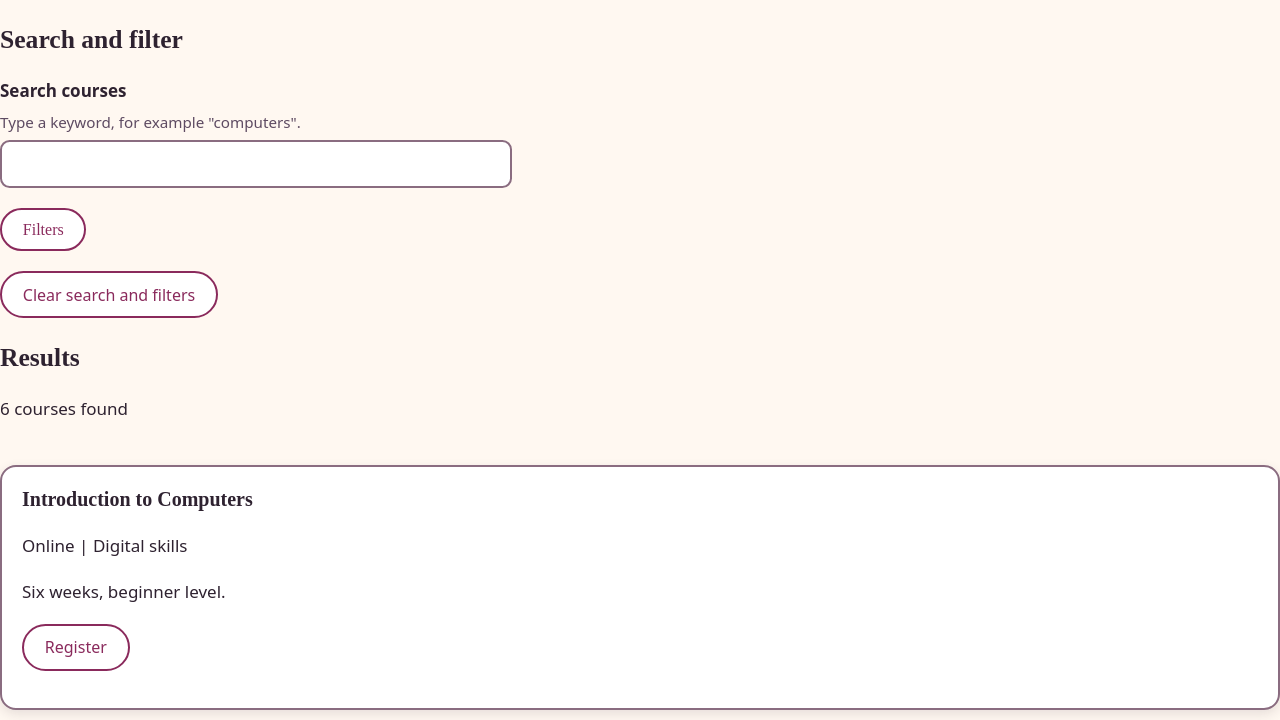
Test: CourseDirectory › toggles aria-pressed and filters the results
Click the button "Filters". click: (43, 230)
box: [0,208,86,251]
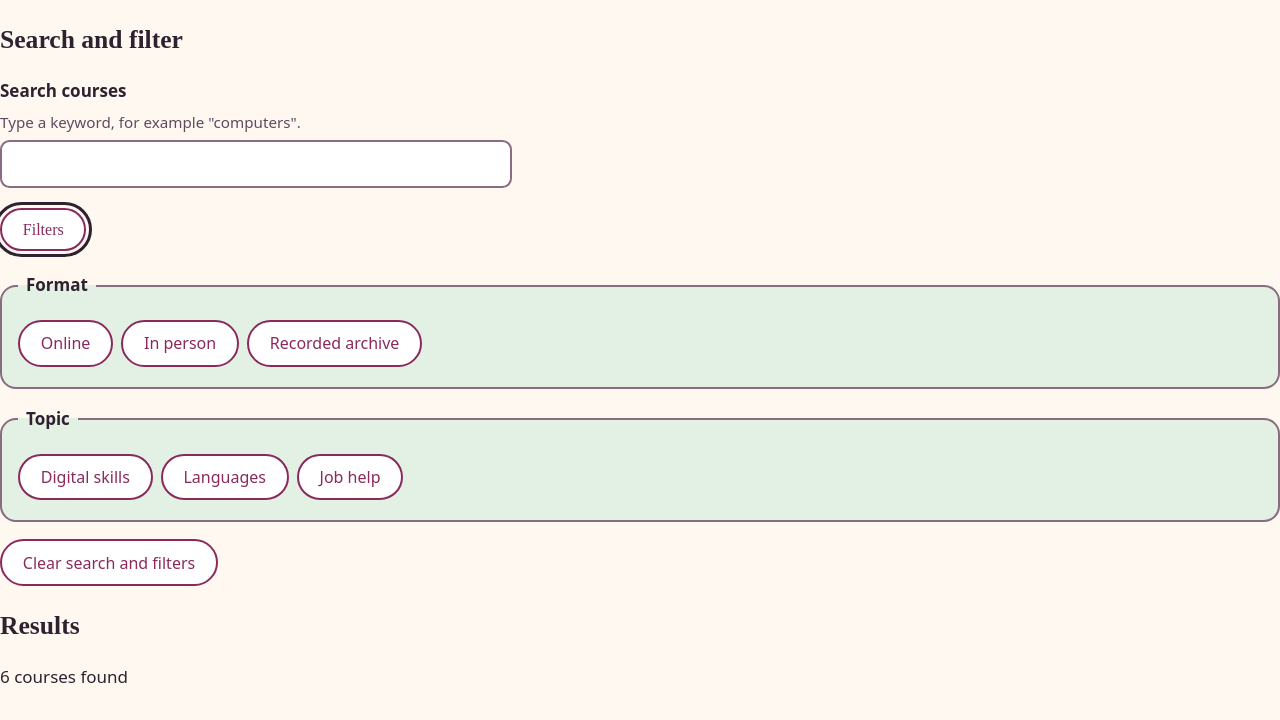
Click the button "Online". click: (66, 343)
box: [18,320,113,367]
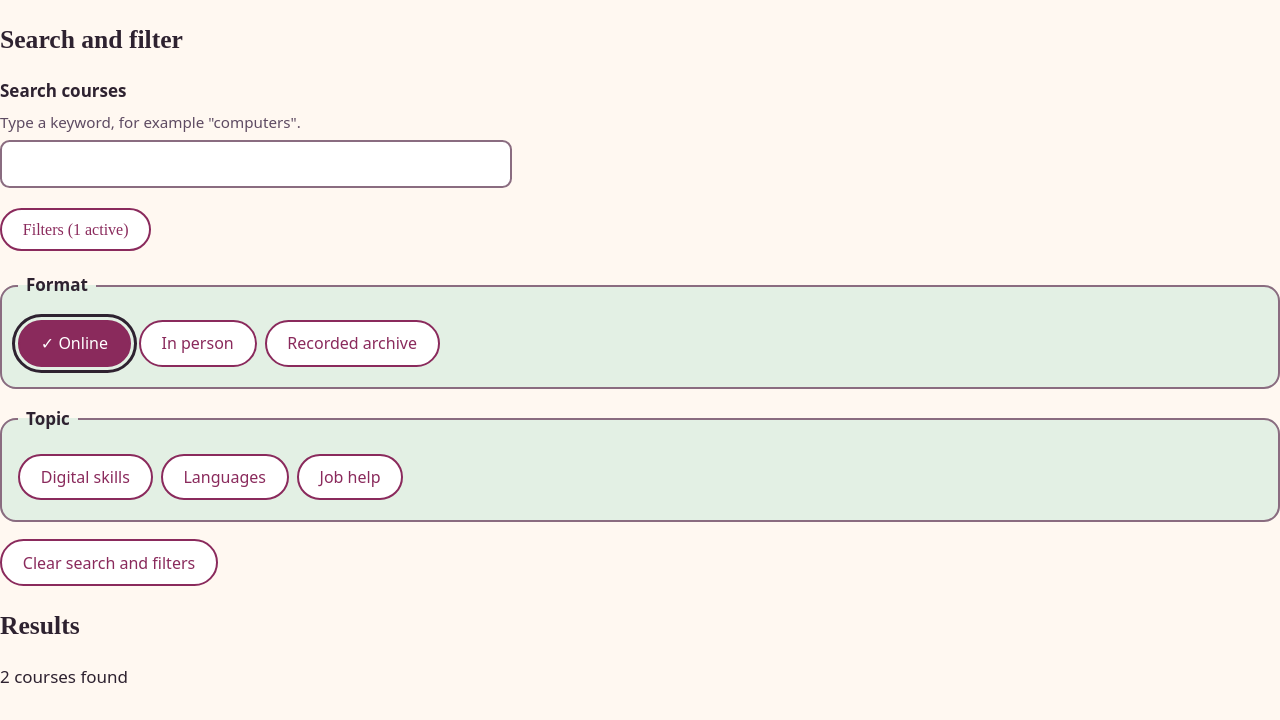
Expected: the message reads "2 courses found", [0,666,128,688]
